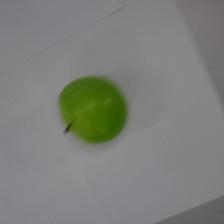green: (60, 77, 128, 143)
